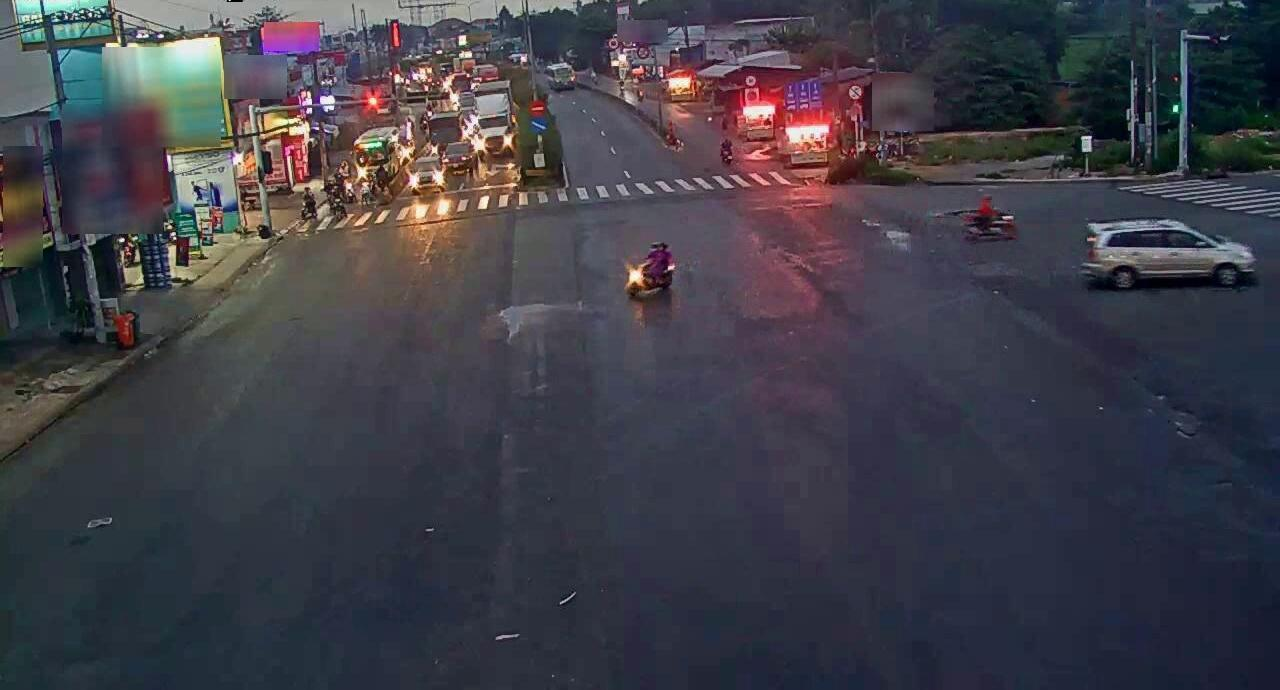xe may: (621, 236, 675, 301)
